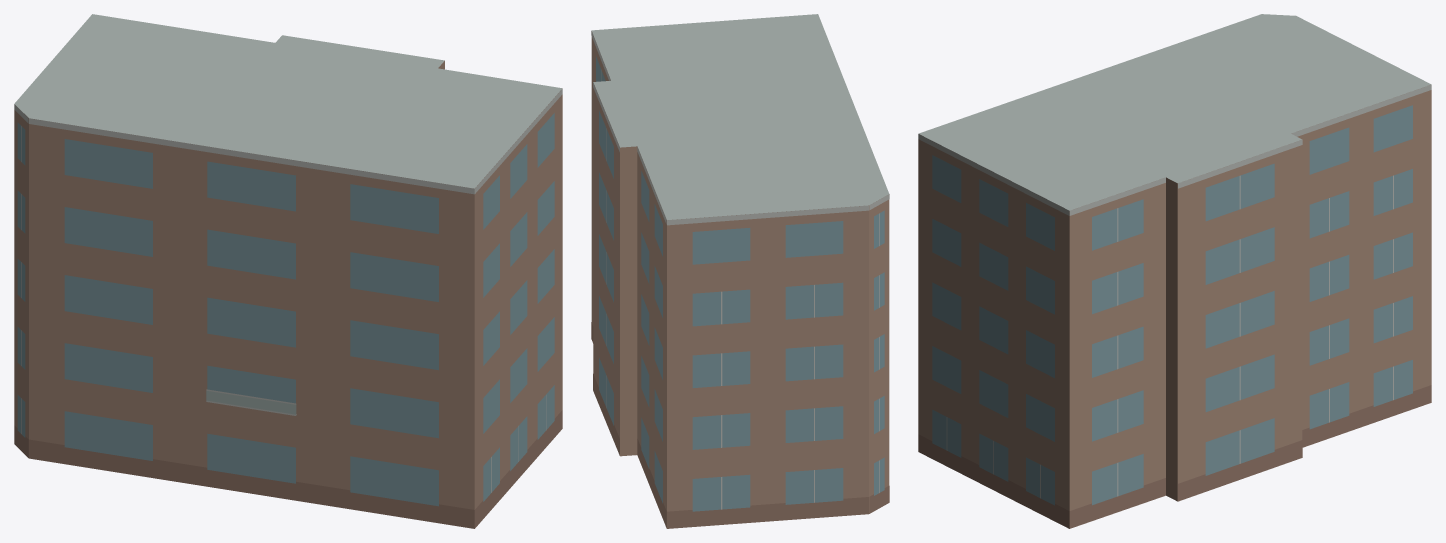
File: survey-upis-32997444.glb
The picture shows the model from 3 angles, left to right: view 1: azimuth 30°, elevation 25°; view 2: azimuth 150°, elevation 25°; view 3: azimuth 270°, elevation 25°; orthographic projection. The views are drawn at different scales.
Parts seen in each view (by area): view 1: survey-upis-32997444.tmp; view 2: survey-upis-32997444.tmp; view 3: survey-upis-32997444.tmp.
Part boxes in pixels (x1=…): survey-upis-32997444.tmp: x1=14, y1=14, x2=562, y2=528; survey-upis-32997444.tmp: x1=591, y1=14, x2=889, y2=528; survey-upis-32997444.tmp: x1=918, y1=14, x2=1431, y2=528.
Size of the model in its own units: 19.16 by 14.45 by 21.14.
